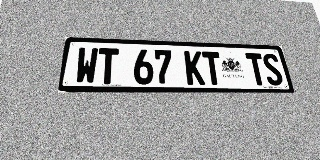6: (134, 49, 154, 84)
7: (153, 50, 173, 85)
K: (184, 51, 205, 85)
S: (261, 53, 284, 85)
T: (97, 48, 119, 84), (202, 51, 224, 85), (245, 53, 268, 85)
W: (74, 47, 98, 84)
